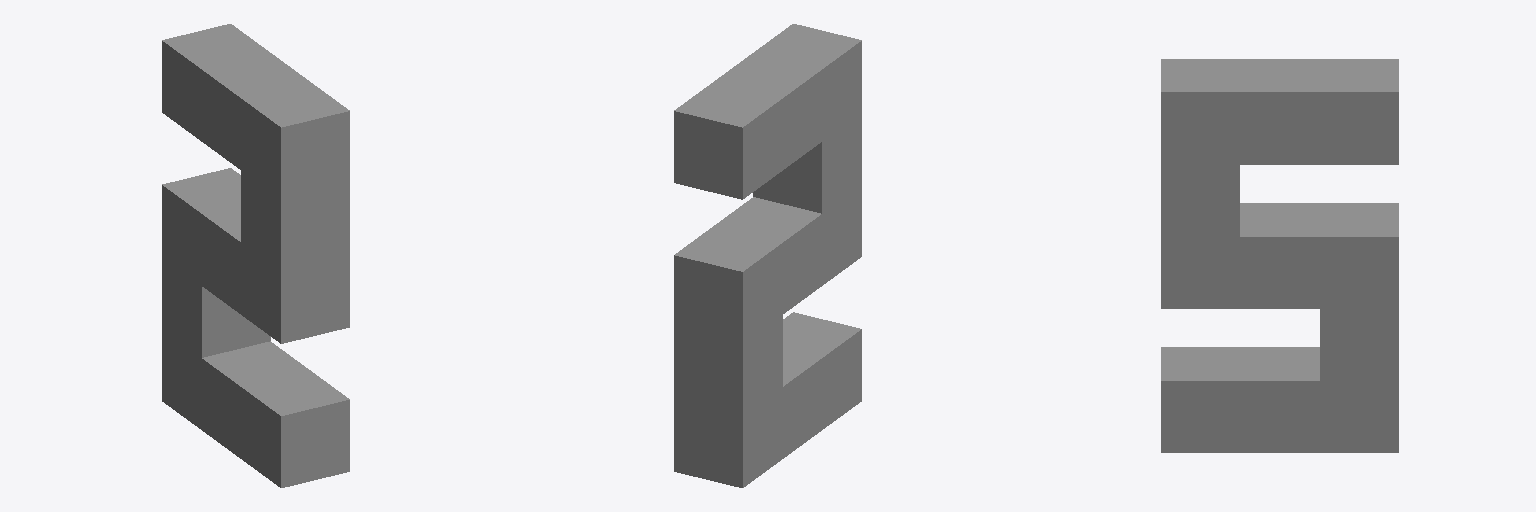
3 views of the same model, side by side, from view 1: azimuth 30°, elevation 25°; view 2: azimuth 150°, elevation 25°; view 3: azimuth 270°, elevation 25° (orthographic).
Visible parts, largest first — view 1: mesh[number redacted]; view 2: mesh[number redacted]; view 3: mesh[number redacted].
Boxes of the visible parts, <box> form: mesh[number redacted]: <box>162,24,349,487</box>; mesh[number redacted]: <box>674,24,861,487</box>; mesh[number redacted]: <box>1161,59,1398,452</box>.
Size of the model in its own units: 0.02 by 0.1 by 0.06.